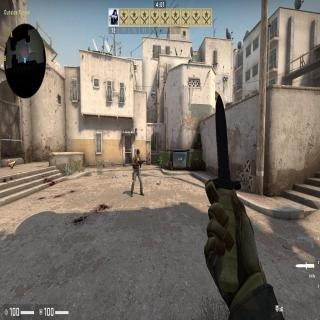T-Body: (131, 149, 145, 196)
T-Head: (136, 150, 140, 156)
